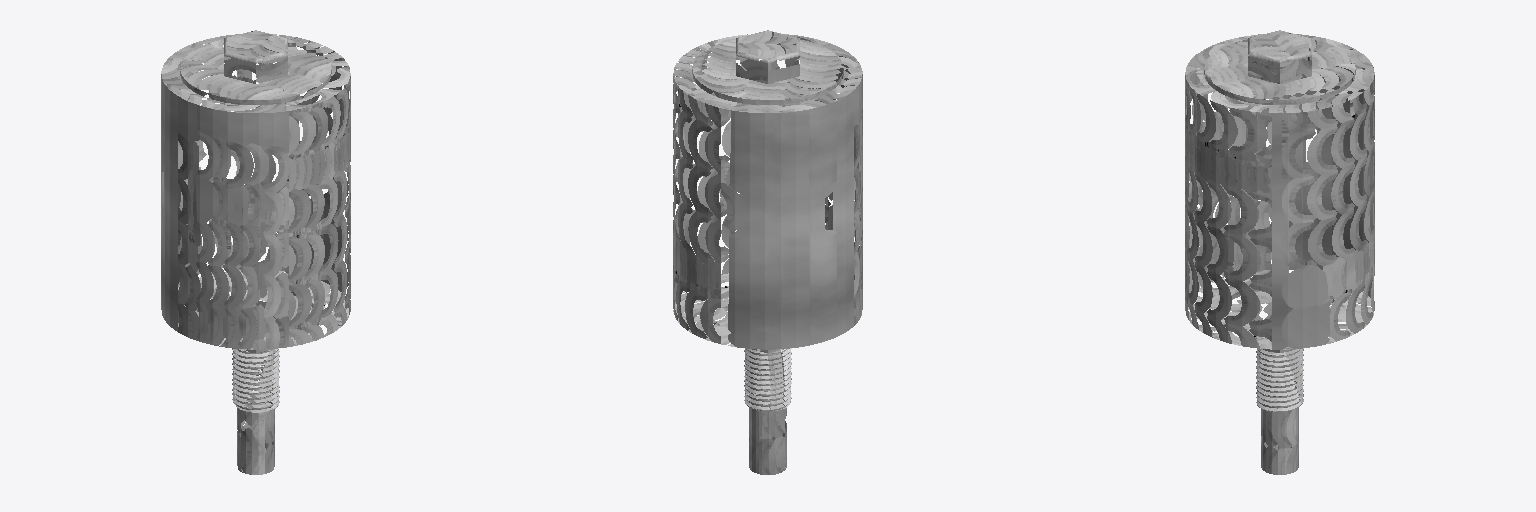
3 renders of one model, left to right at view 1: azimuth 30°, elevation 25°; view 2: azimuth 150°, elevation 25°; view 3: azimuth 270°, elevation 25°, orthographic.
Parts seen in each view (by area): view 1: mesh_2_Fillet1_face; view 2: mesh_2_Fillet1_face; view 3: mesh_2_Fillet1_face.
Part boxes in pixels (bbox=[...]): mesh_2_Fillet1_face: bbox=[161, 30, 350, 474]; mesh_2_Fillet1_face: bbox=[673, 30, 862, 474]; mesh_2_Fillet1_face: bbox=[1185, 30, 1374, 474].
Bounding box in the file's own units: 0.0506 × 0.1249 × 0.0508.
Materials: 1 (1 with a texture image).